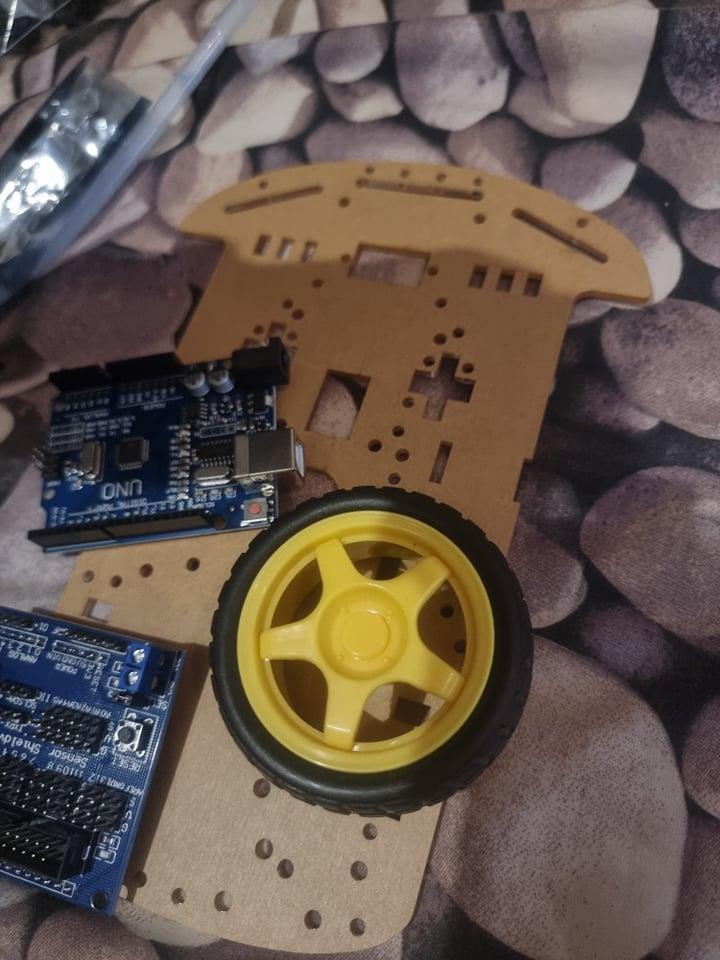5V EXPANSION: (1, 604, 195, 923)
UNO R3: (28, 342, 299, 556)
